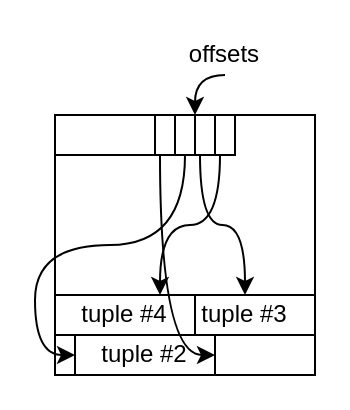
This 350x410 diagram has some shape labels left out. The shapes that lost their labels are listed below. From the top down, each one's centre as x and y in pixels, then its label:
point 104,134: header
point 264,354: tuple #1
